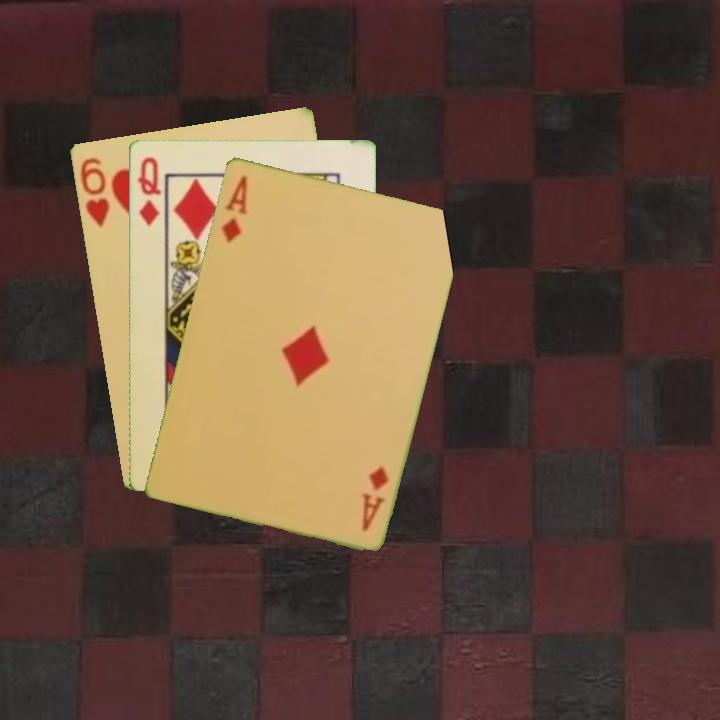6h: (76, 153, 112, 230)
Ad: (218, 171, 251, 246), (358, 462, 391, 534)
Qd: (134, 153, 164, 229)
